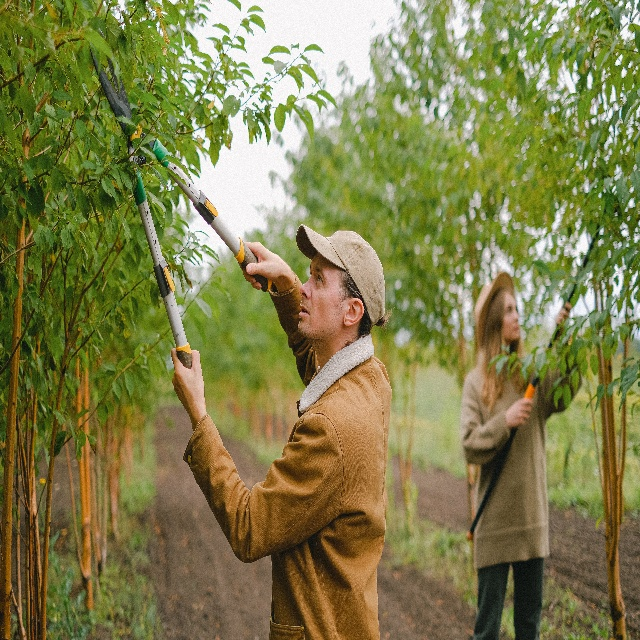Sin_guantes: (169, 345, 206, 423), (238, 237, 288, 293), (505, 396, 532, 428), (556, 302, 572, 332)
